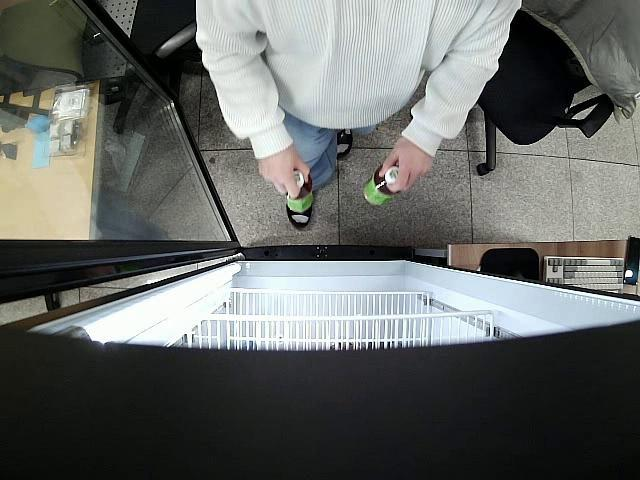19_17cha: (363, 166, 398, 206), (288, 168, 313, 216)
